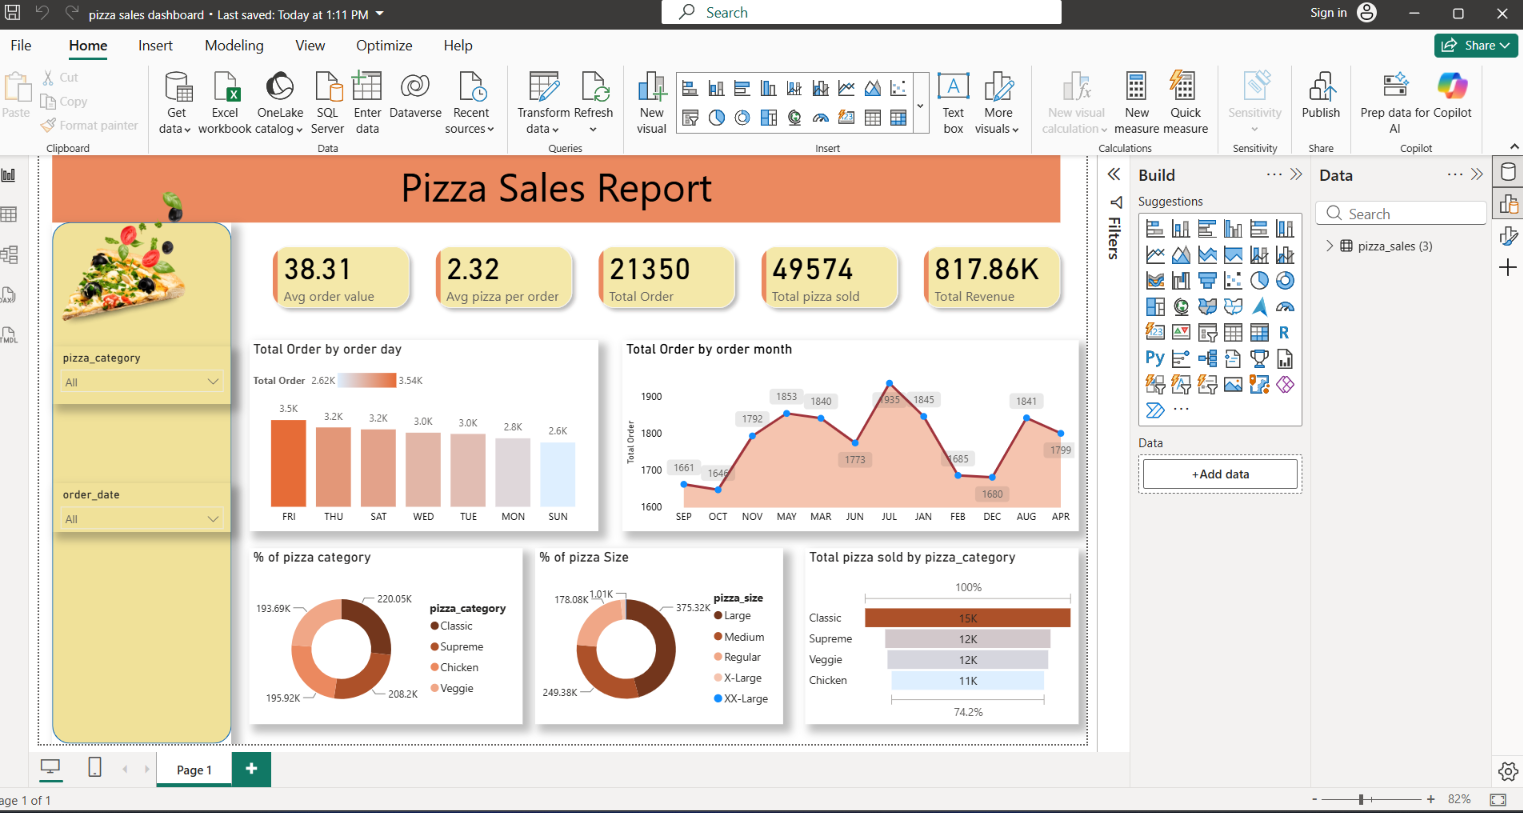

Layout of this report page (visuals, bound fields, positions):
{"tool":"powerbi","page":{"name":"Page 1","canvas":[1280,720],"ordinal":0},"visuals":[{"type":"cardVisual","fields":{"Data":["pizza_sales (3).Avg order value","pizza_sales (3).Avg pizza per order","pizza_sales (3).Total Order","pizza_sales (3).Total pizza sold","pizza_sales (3).Total Revenue"]},"box":[256.8,82.2,1022.9,134.2],"z":0},{"type":"textbox","box":[15.6,0,1233.1,82.5],"z":1000},{"type":"clusteredColumnChart","fields":{"Category":["pizza_sales (3).order day"],"Y":["pizza_sales (3).Total Order"]},"box":[256.8,226.5,427.1,233.7],"z":2000},{"type":"areaChart","fields":{"Y":["pizza_sales (3).Total Order"],"Category":["pizza_sales (3).order month"]},"box":[712.7,226.5,558.3,233.7],"z":3000},{"type":"donutChart","title":"% of pizza category","fields":{"Category":["pizza_sales (3).pizza_category"],"Y":["pizza_sales (3).Total Revenue"]},"box":[256.8,480.4,334.7,215],"z":4000},{"type":"donutChart","title":"% of pizza Size","fields":{"Y":["pizza_sales (3).Total Revenue"],"Category":["pizza_sales (3).pizza_size"]},"box":[606,480.4,303,215],"z":5000},{"type":"funnel","fields":{"Category":["pizza_sales (3).pizza_category"],"Y":["pizza_sales (3).Total pizza sold"]},"box":[936.4,480.4,334.7,215],"z":6000},{"type":"shape","box":[15.9,82.2,219.3,637.7],"z":7000},{"type":"image","box":[15.9,0,219.3,233.7],"z":8000},{"type":"slicer","fields":{"Values":["pizza_sales (3).pizza_category"]},"box":[15.9,233.7,219.3,70.7],"z":9000},{"type":"slicer","fields":{"Values":["pizza_sales (3).order_date"]},"box":[15.9,401.1,219.3,59.2],"z":10000}]}

Visuals, with their boxes on the page's 1280x720 design canvas (x1, y1, x2, y2). These are canvas units, not pixel positions in the 1523x813 screenshot, which may show the page scaled, cropped or inside an application window:
cardVisual - pizza_sales (3).Avg order value x pizza_sales (3).Avg pizza per order: (257, 82, 1280, 216)
textbox: (16, 0, 1249, 82)
clusteredColumnChart - pizza_sales (3).order day x pizza_sales (3).Total Order: (257, 226, 684, 460)
areaChart - pizza_sales (3).Total Order x pizza_sales (3).order month: (713, 226, 1271, 460)
"% of pizza category" donutChart: (257, 480, 592, 695)
"% of pizza Size" donutChart: (606, 480, 909, 695)
funnel - pizza_sales (3).pizza_category x pizza_sales (3).Total pizza sold: (936, 480, 1271, 695)
shape: (16, 82, 235, 720)
image: (16, 0, 235, 234)
slicer - pizza_sales (3).pizza_category: (16, 234, 235, 304)
slicer - pizza_sales (3).order_date: (16, 401, 235, 460)
